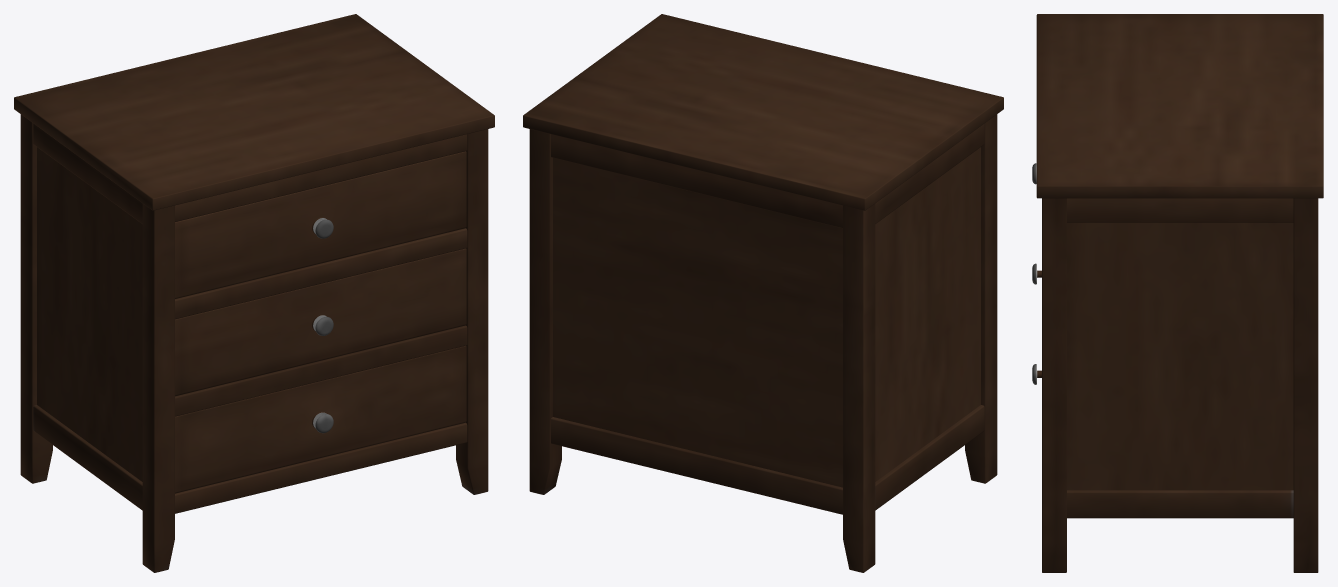
File: Small_Wooden_Table.fbx
3 renders of one model, left to right at view 1: azimuth 30°, elevation 25°; view 2: azimuth 150°, elevation 25°; view 3: azimuth 270°, elevation 25°, orthographic. The views are drawn at different scales.
Parts seen in each view (by area): view 1: Small-Wooden-Table; view 2: Small-Wooden-Table; view 3: Small-Wooden-Table.
Part boxes in pixels (x1,y1,x2,y2): Small-Wooden-Table: [14, 14, 494, 572]; Small-Wooden-Table: [523, 14, 1003, 572]; Small-Wooden-Table: [1032, 14, 1323, 572].
Size of the model in its own units: 1.7 by 1.79 by 1.21.
